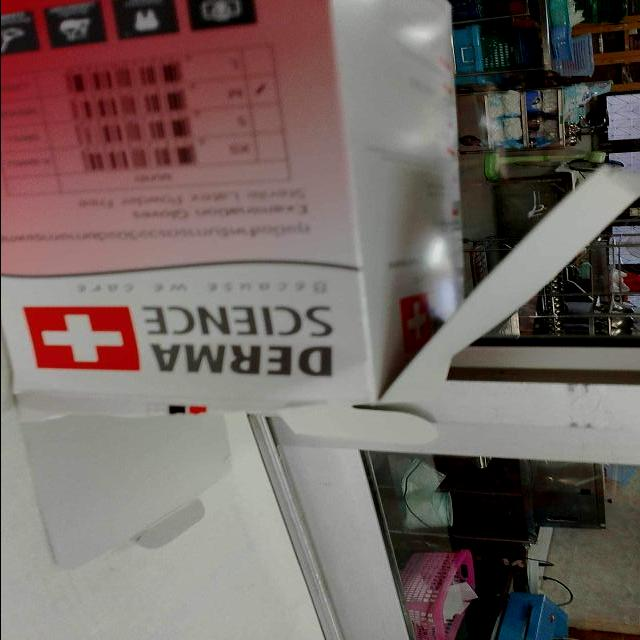Pathological: (3, 1, 466, 433)
Sharps: (270, 157, 640, 454)
